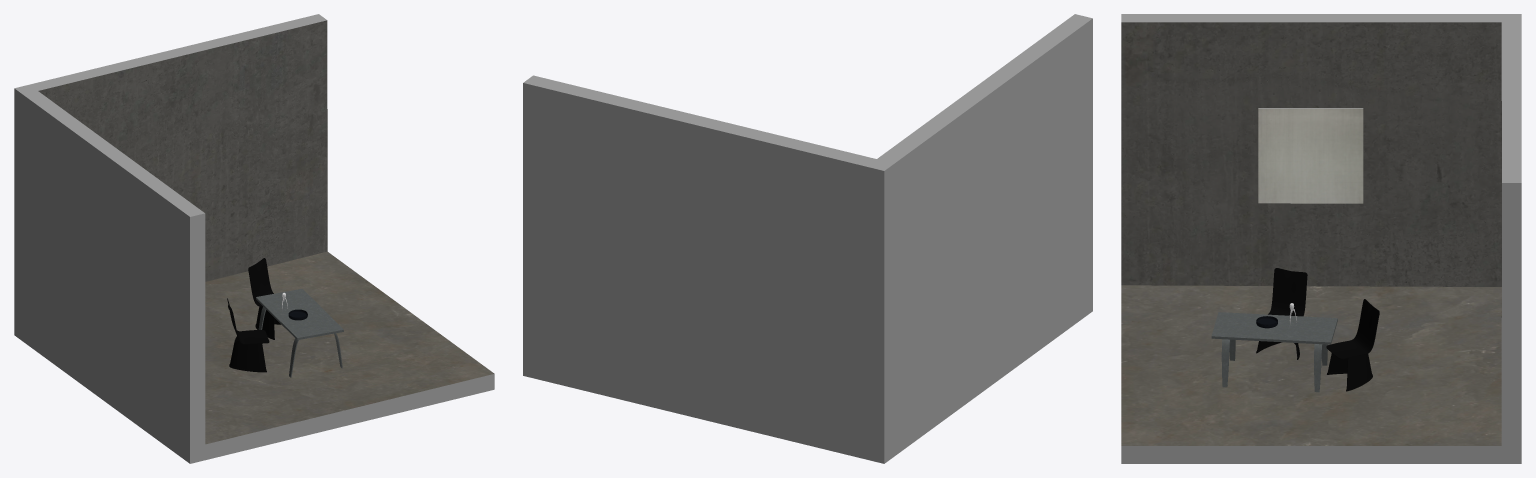
File: main.glb
The picture shows the model from 3 angles, left to right: view 1: azimuth 30°, elevation 25°; view 2: azimuth 150°, elevation 25°; view 3: azimuth 270°, elevation 25°; orthographic projection. The views are drawn at different scales.
Visible parts, largest first — view 1: decor, table, chair_one, chair_two; view 2: decor; view 3: decor, tableau, table, chair_two, chair_one.
Part boxes in pixels (left/top/right/bottom): decor: left=14, top=14, right=494, bottom=463; table: left=256, top=288, right=343, bottom=377; chair_one: left=227, top=298, right=269, bottom=372; chair_two: left=248, top=258, right=280, bottom=339; decor: left=523, top=14, right=1092, bottom=463; decor: left=1121, top=14, right=1521, bottom=463; tableau: left=1258, top=108, right=1363, bottom=203; table: left=1211, top=312, right=1337, bottom=392; chair_two: left=1326, top=299, right=1379, bottom=391; chair_one: left=1256, top=268, right=1307, bottom=359.
Size of the model in its own units: 18.05 by 13.99 by 18.05.
9 materials, 4 textured.
